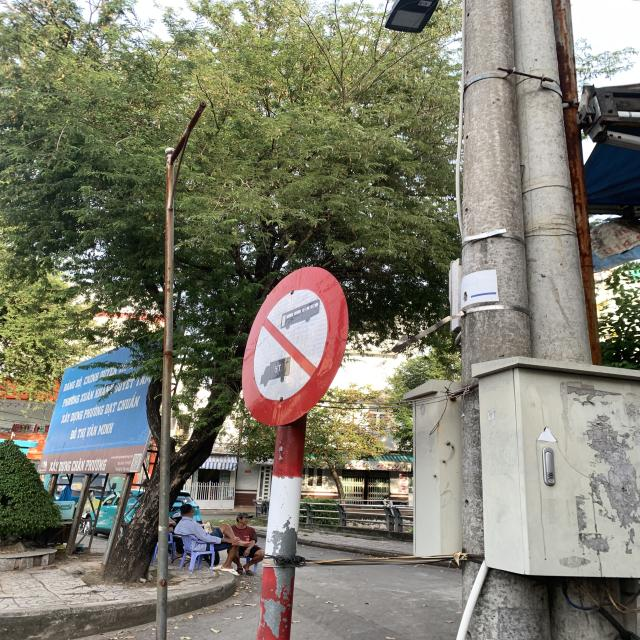Cam_XeTai_XeKhach: (242, 264, 346, 427)
